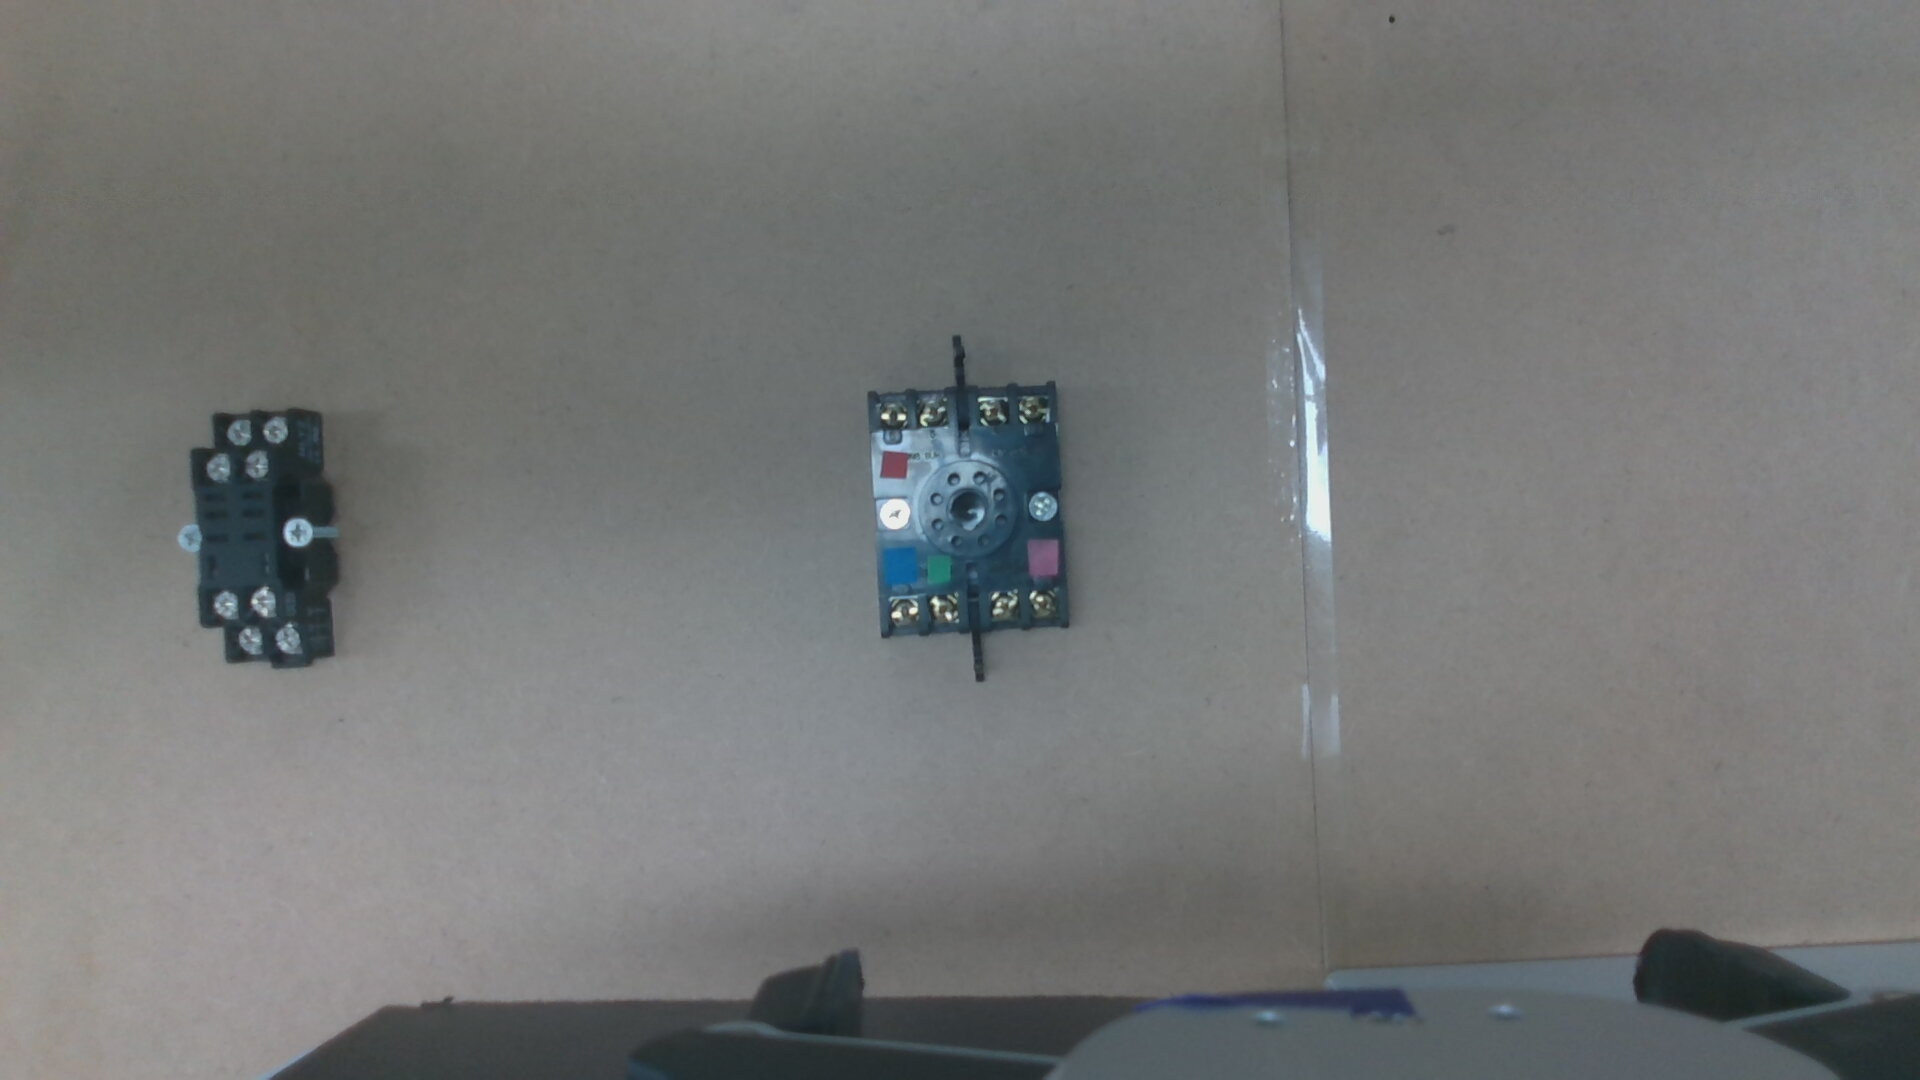timer 2: (1027, 589, 1058, 618)
timer 6: (877, 400, 906, 427)
timer 7: (887, 599, 918, 625)
timer 8: (928, 595, 957, 624)
